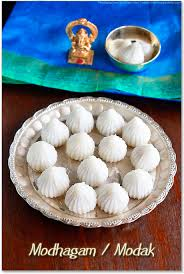modak: (118, 169, 161, 197), (66, 182, 100, 214), (98, 137, 141, 162), (25, 140, 61, 168), (128, 143, 161, 171), (35, 169, 71, 194), (79, 155, 110, 184), (37, 122, 74, 146), (99, 186, 128, 216), (67, 133, 97, 159), (122, 120, 153, 145), (70, 105, 94, 131), (99, 109, 125, 133)
